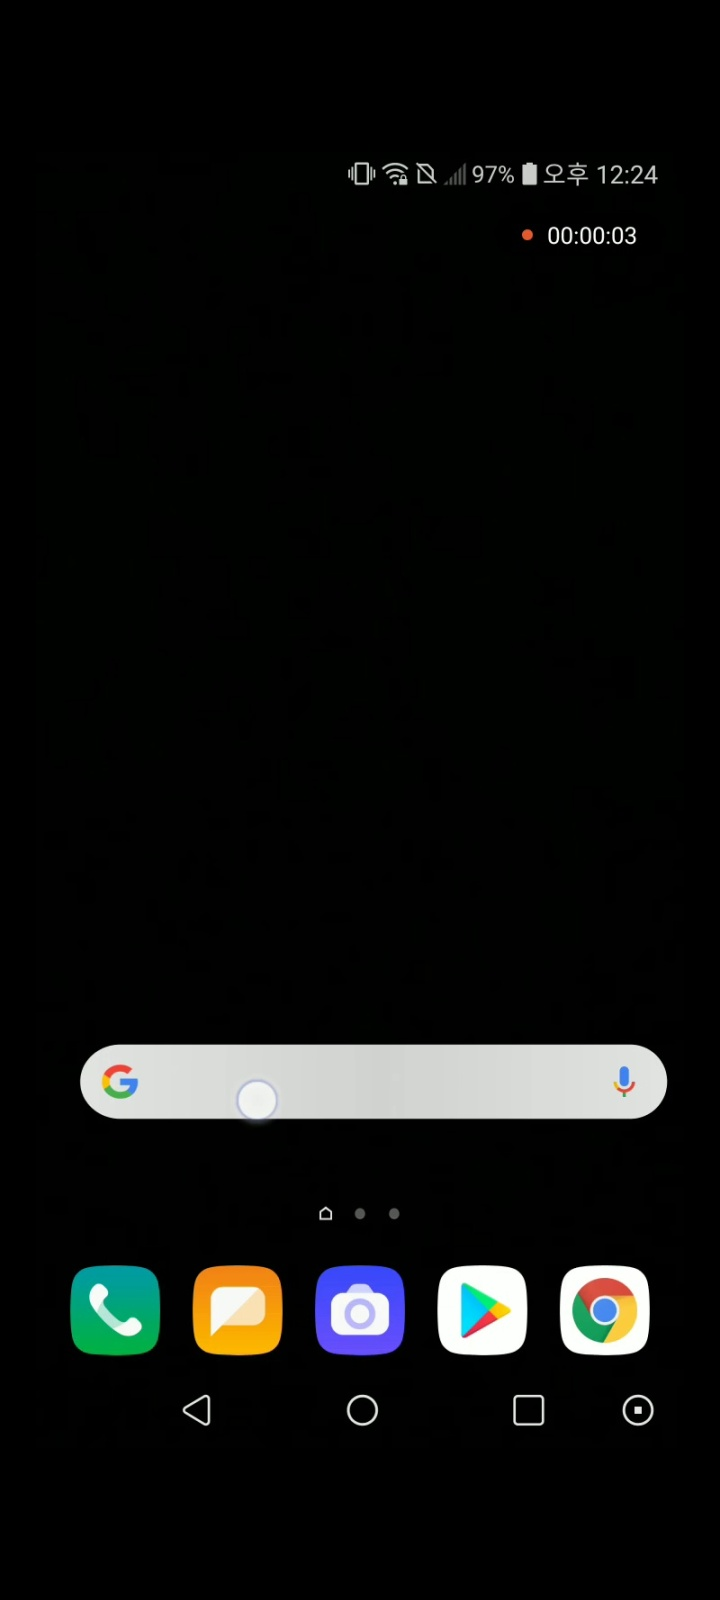Cursor: (235, 1079, 280, 1124)
